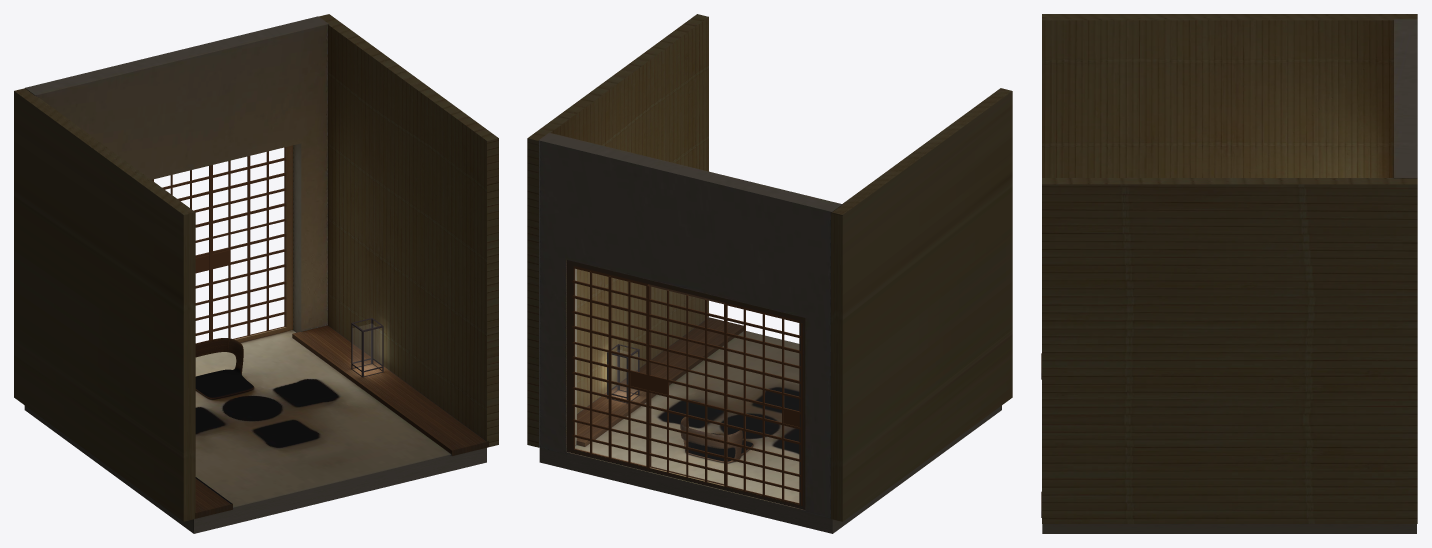
Rendered from room-modified.glb.
3 renders of one model, left to right at view 1: azimuth 30°, elevation 25°; view 2: azimuth 150°, elevation 25°; view 3: azimuth 270°, elevation 25°, orthographic. The views are drawn at different scales.
Parts seen in each view (by area): view 1: Object_2, Object_4, Object_11, Object_10, Object_18, Object_14, Object_7, Object_3, Object_15; view 2: Object_2, Object_11, Object_4, Object_10, Object_14, Object_3, Object_18, Object_7, Object_15; view 3: Object_4, Object_2, Object_11, Object_10.
Boxes of the visible parts, box(x1,y1,x2,y2) form: Object_2: box(14, 88, 195, 521); Object_4: box(319, 14, 498, 446); Object_11: box(25, 16, 328, 332); Object_10: box(24, 330, 486, 533); Object_18: box(195, 325, 488, 518); Object_14: box(152, 147, 285, 339); Object_7: box(195, 338, 254, 399); Object_3: box(234, 145, 292, 342); Object_15: box(351, 318, 383, 377); Object_2: box(831, 88, 1012, 521); Object_11: box(538, 132, 842, 518); Object_4: box(527, 14, 708, 447); Object_10: box(539, 331, 1001, 533); Object_14: box(572, 266, 802, 505); Object_3: box(567, 260, 805, 509); Object_18: box(576, 317, 743, 446); Object_7: box(680, 417, 753, 463); Object_15: box(607, 344, 639, 403); Object_4: box(1042, 178, 1417, 523); Object_2: box(1042, 14, 1417, 177); Object_11: box(1394, 19, 1417, 178); Object_10: box(1042, 524, 1416, 533).
Bounding box in the file's own units: 28.17 × 27.5 × 26.32.
Materials: 9 (8 with a texture image).
